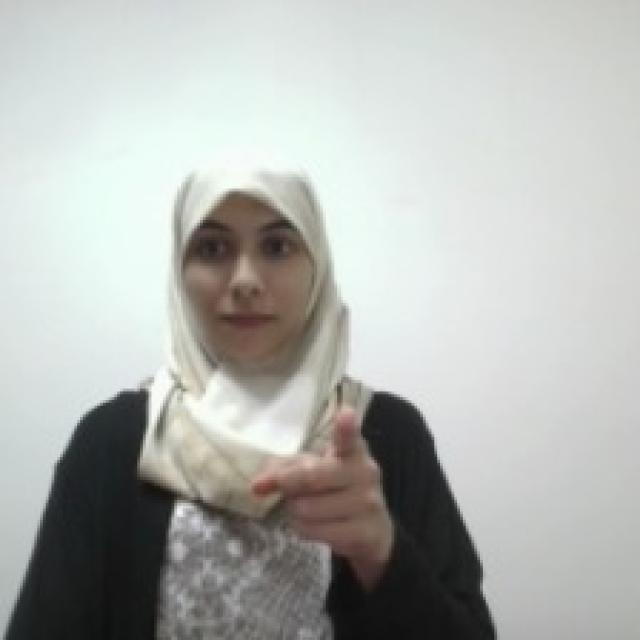you: (245, 399, 393, 567)
